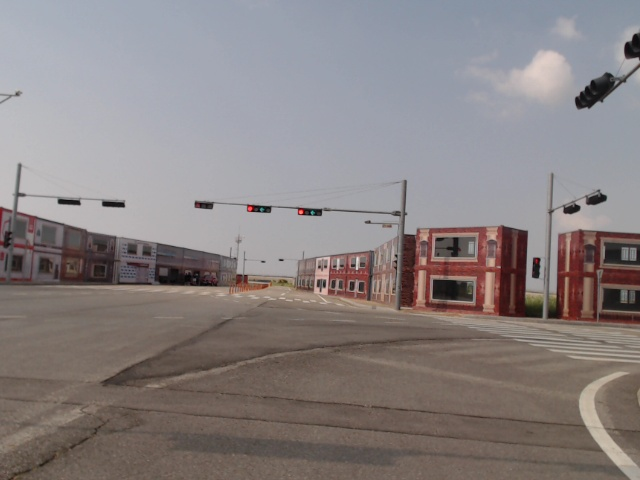left_green_4: (298, 208, 322, 216), (247, 205, 270, 213)
